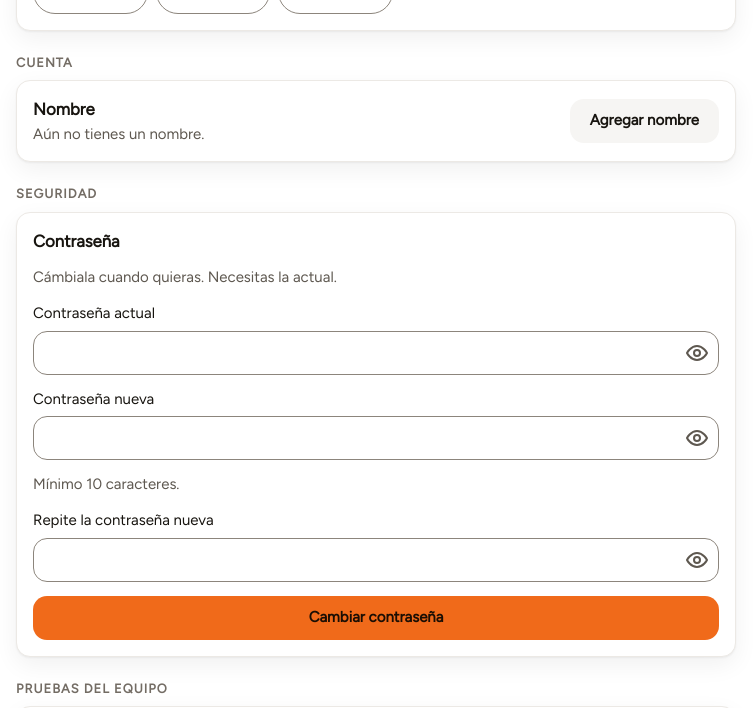
Scenario: ajustes › seguridad › contraseña › INVALID_PASSWORD marca la contraseña actual y enfoca el campo
(page scrolled)
In the password field labelled "Contraseña actual": (376, 353) [33,331,719,375], type "mala"
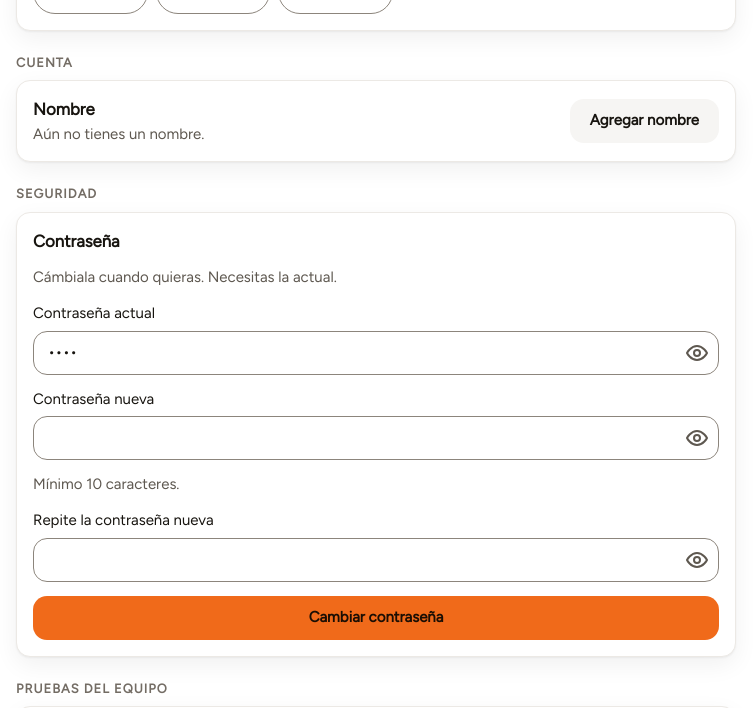
In the password field labelled "Contraseña nueva": (376, 438) [33,416,719,460], type "una clave bien larga"
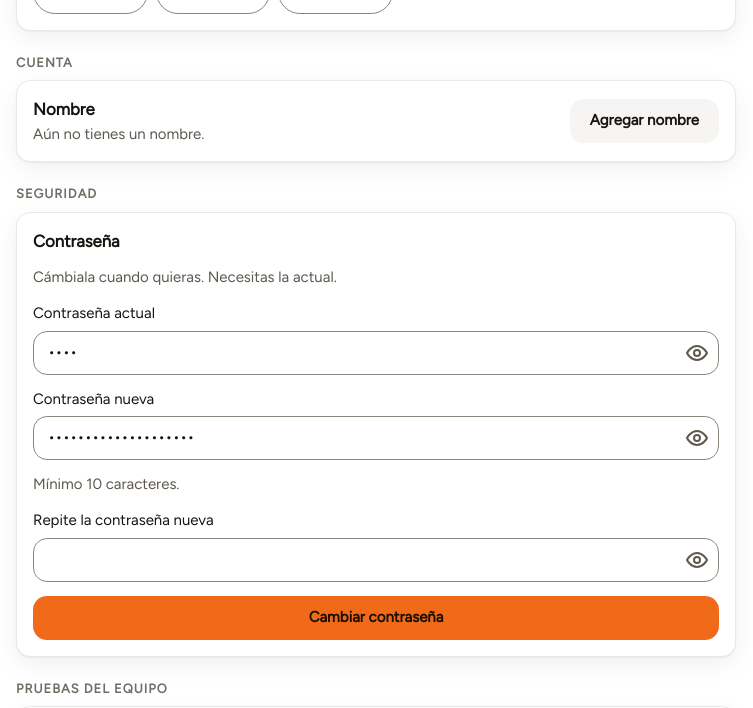
In the password field labelled "Repite la contraseña nueva": (376, 560) [33,538,719,582], type "una clave bien larga"
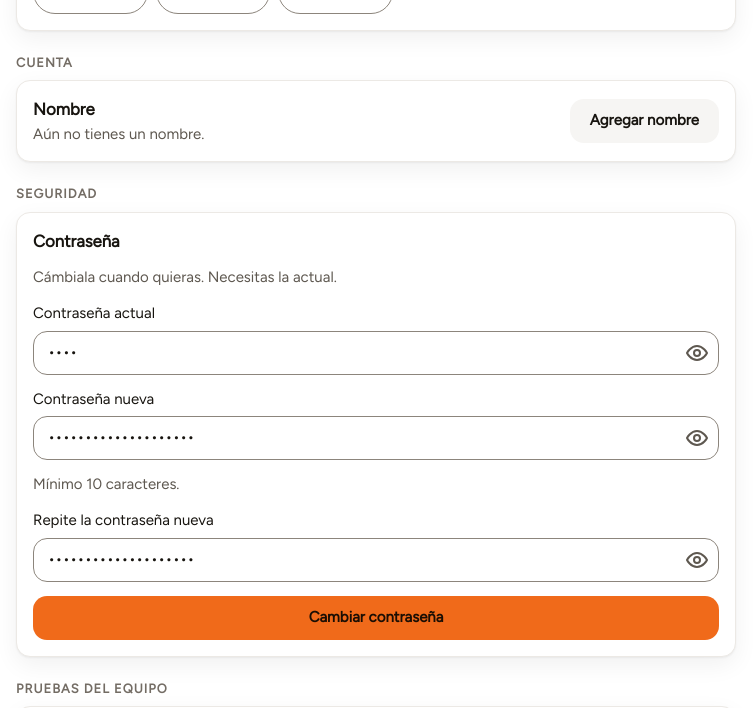
Click the button "Cambiar contraseña": (376, 618) [33,596,719,640]
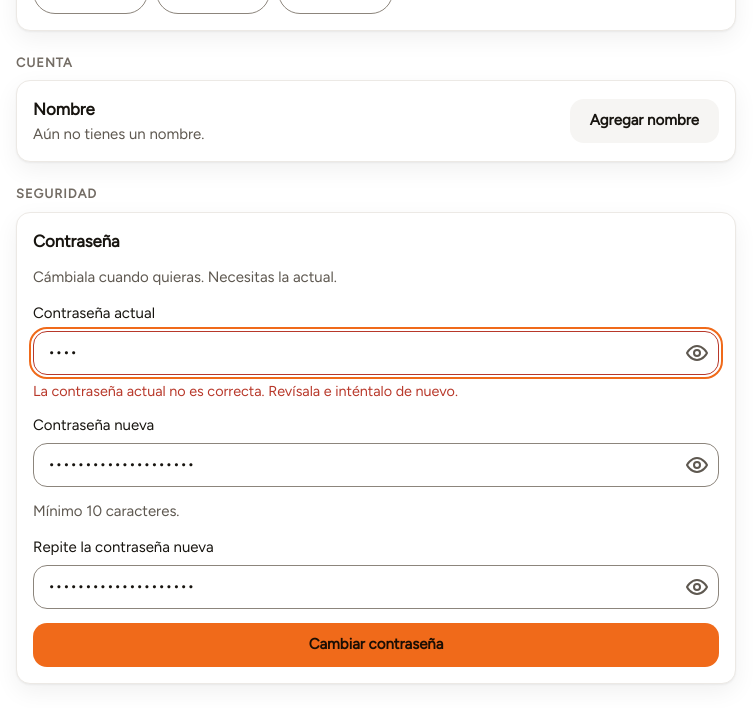
Result: the text "La contraseña actual no es correcta. Revísala e inténtalo de nuevo." is shown at [33,382,458,400]
